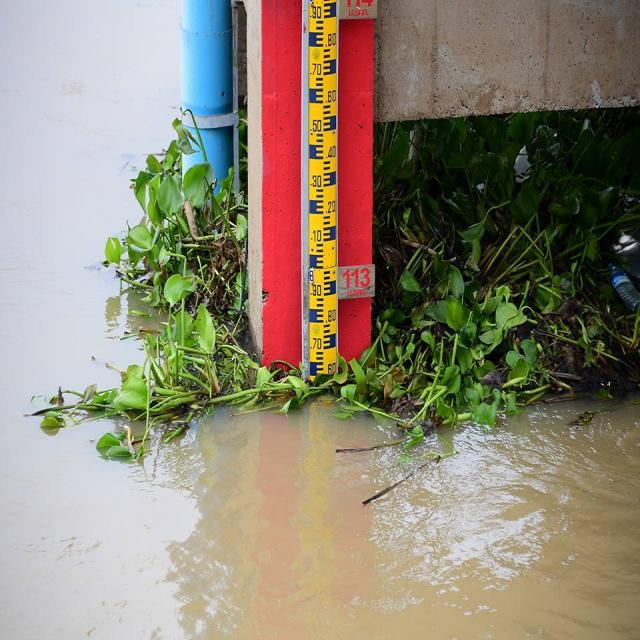ruler: (304, 0, 341, 395)
value: (309, 116, 323, 134), (308, 61, 322, 78), (324, 30, 337, 48), (324, 198, 337, 215), (324, 306, 336, 324), (309, 5, 323, 20), (324, 143, 336, 160), (310, 335, 322, 352), (309, 284, 323, 298), (310, 173, 322, 189), (310, 226, 322, 242), (325, 88, 336, 104), (308, 267, 314, 282)
